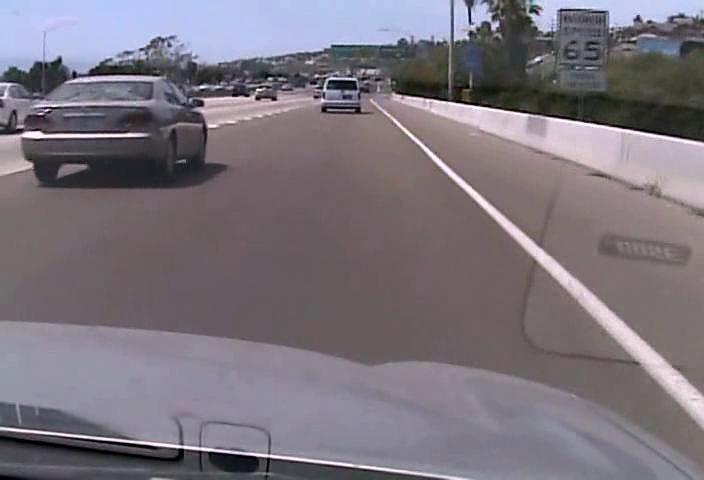speedLimit65: (556, 7, 609, 66)
